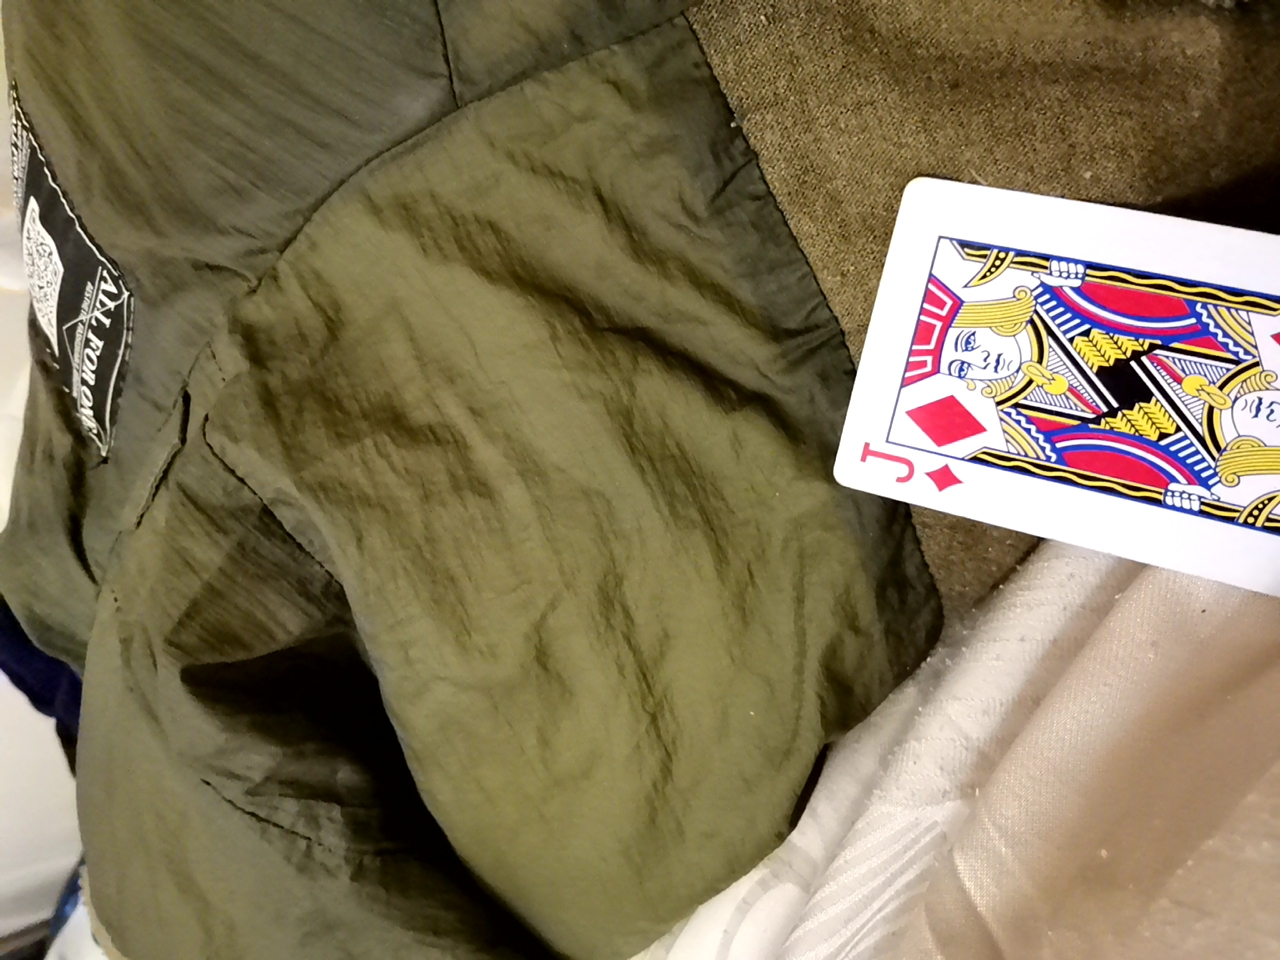fk j: (825, 183, 1280, 613)
